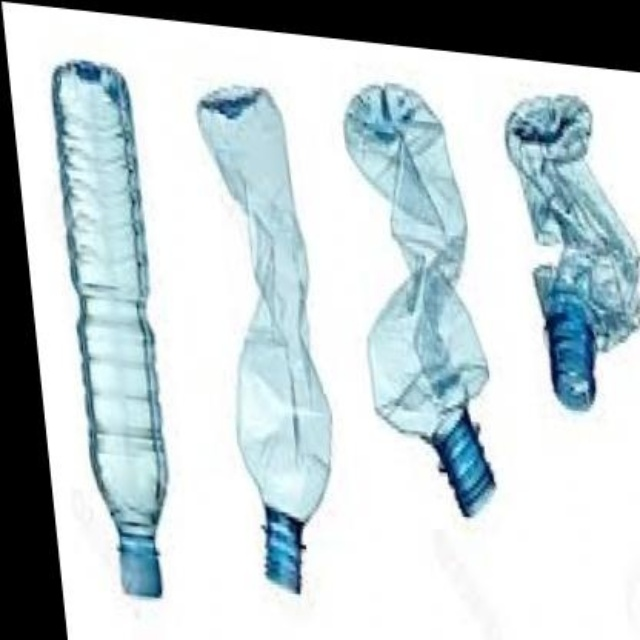trash: (197, 86, 329, 591), (345, 85, 494, 515), (52, 62, 165, 595), (506, 95, 638, 408)
